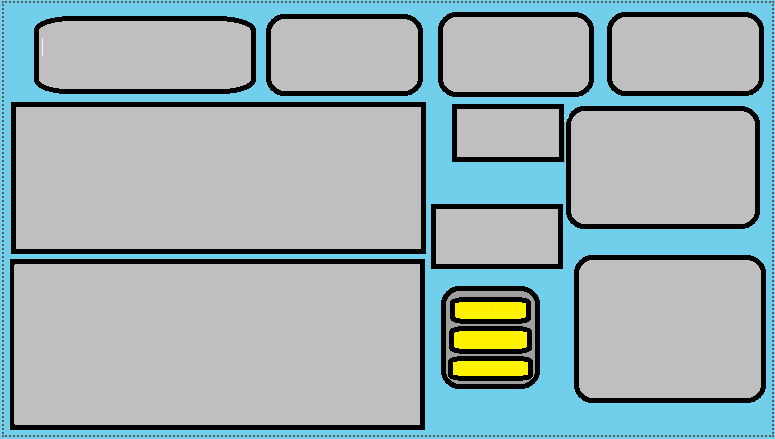

What the dashboard file says about the page in this screenshot:
{"tool":"powerbi","page":{"name":"Relatório","canvas":[1280,720],"ordinal":0},"visuals":[{"type":"donutChart","title":"Gênero ","fields":{"Category":["dados_prontos.Customer_Gender"],"Y":["CountNonNull(dados_prontos.Customer_Gender)"]},"box":[933.3,186.7,328.3,190],"z":0},{"type":"pieChart","title":"IDADE","fields":{"Category":["dados_prontos.Age_Group"],"Y":["CountNonNull(dados_prontos.Age_Group)"]},"box":[955,431.7,315,211.7],"z":1000},{"type":"slicer","title":"DATA","fields":{"Values":["dados_prontos.Date"]},"box":[51.7,26.7,361.7,108.3],"z":2000},{"type":"card","title":"INVESTIMENTO","fields":{"Values":["Sum(dados_prontos.custo)"]},"box":[431.7,51.7,273.3,83.3],"z":3000},{"type":"card","title":"LUCRO","fields":{"Values":["Sum(dados_prontos.lucro)"]},"box":[978.3,46.7,270,88.3],"z":4000},{"type":"card","title":"REVENDA","fields":{"Values":["Sum(dados_prontos.revenda)"]},"box":[718.3,51.7,260,83.3],"z":5000},{"type":"lineChart","title":"VENDAS X TEMPO","fields":{"Category":["dados_prontos.Date.Variation.Hierarquia de datas.Ano","dados_prontos.Date.Variation.Hierarquia de datas.Trimestre","dados_prontos.Date.Variation.Hierarquia de datas.Mês","dados_prontos.Date.Variation.Hierarquia de datas.Dia"],"Y":["Count(dados_prontos.lucro)"]},"box":[33.3,170,648.3,243.3],"z":6000},{"type":"areaChart","title":"INVESTIMENTO + LUCRO   X  TEMPO","fields":{"Category":["dados_prontos.Date.Variation.Hierarquia de datas.Ano","dados_prontos.Date.Variation.Hierarquia de datas.Trimestre","dados_prontos.Date.Variation.Hierarquia de datas.Mês","dados_prontos.Date.Variation.Hierarquia de datas.Dia"],"Y":["Sum(dados_prontos.custo)"],"Y2":["Sum(dados_prontos.lucro)"]},"box":[33.3,431.7,653.3,276.7],"z":7000},{"type":"card","title":"LUCRO médio (%)","fields":{"Values":["Avg(dados_prontos.porct)"]},"box":[756.7,176.7,176.7,88.3],"z":8000},{"type":"textbox","box":[876.7,200,56.7,70],"z":9000},{"type":"card","title":"VENDAS","fields":{"Values":["CountNonNull(dados_prontos.custo)"]},"box":[695,345,260,86.7],"z":10000},{"type":"pageNavigator","box":[734.4,486.7,161.3,132.5],"z":11000},{"type":"shape","box":[0,0,12.8,720.6],"z":11001},{"type":"shape","box":[7.1,709.2,1272.9,11.4],"z":11002},{"type":"shape","box":[1270,0,10,714.9],"z":11003}]}

Visuals, with their boxes in screenshot pixels (x1, y1, x2, y2), scaled from the page's 1280x720 canvas onto the 775x439 screenshot:
"Gênero " donutChart: region(565, 114, 764, 230)
"IDADE" pieChart: region(578, 263, 769, 392)
"DATA" slicer: region(31, 16, 250, 82)
"INVESTIMENTO" card: region(261, 32, 427, 82)
"LUCRO" card: region(592, 28, 756, 82)
"REVENDA" card: region(435, 32, 592, 82)
"VENDAS X TEMPO" lineChart: region(20, 104, 413, 252)
"INVESTIMENTO + LUCRO   X  TEMPO" areaChart: region(20, 263, 416, 432)
"LUCRO médio (%)" card: region(458, 108, 565, 162)
textbox: region(531, 122, 565, 165)
"VENDAS" card: region(421, 210, 578, 263)
pageNavigator: region(445, 297, 542, 378)
shape: region(0, 0, 8, 438)
shape: region(4, 432, 774, 438)
shape: region(769, 0, 774, 436)
